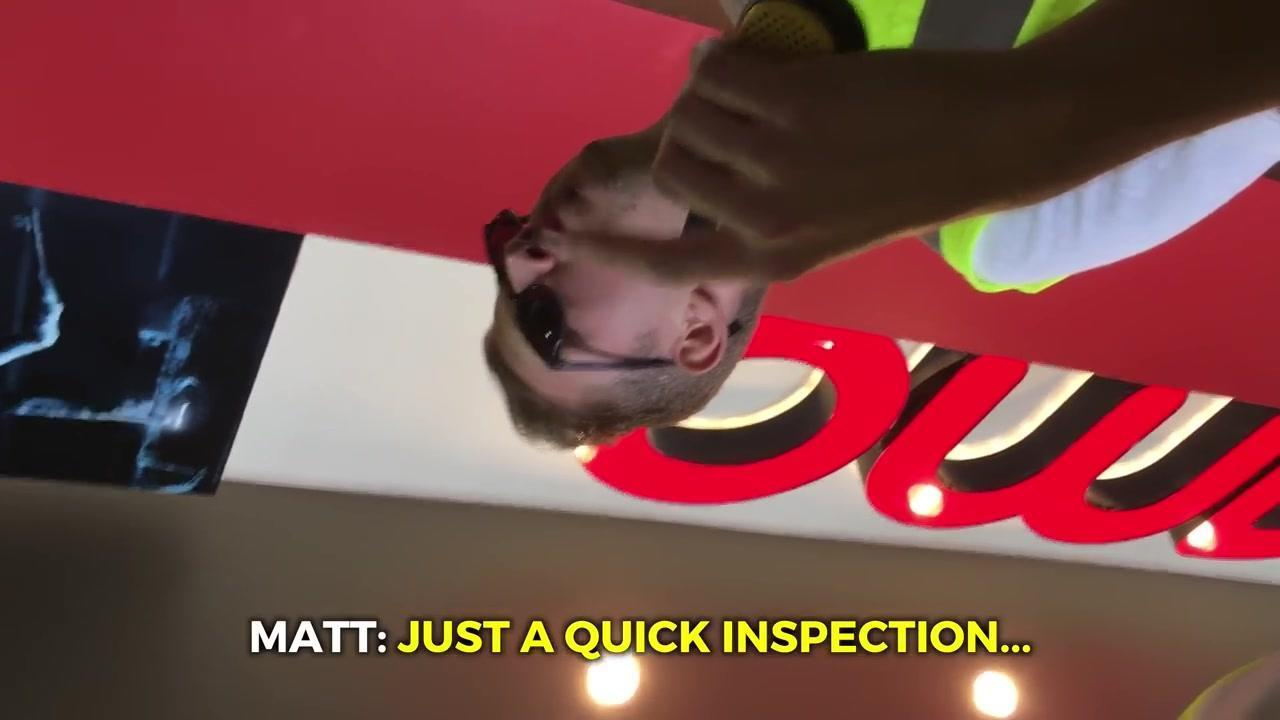vest: (843, 0, 1185, 292)
